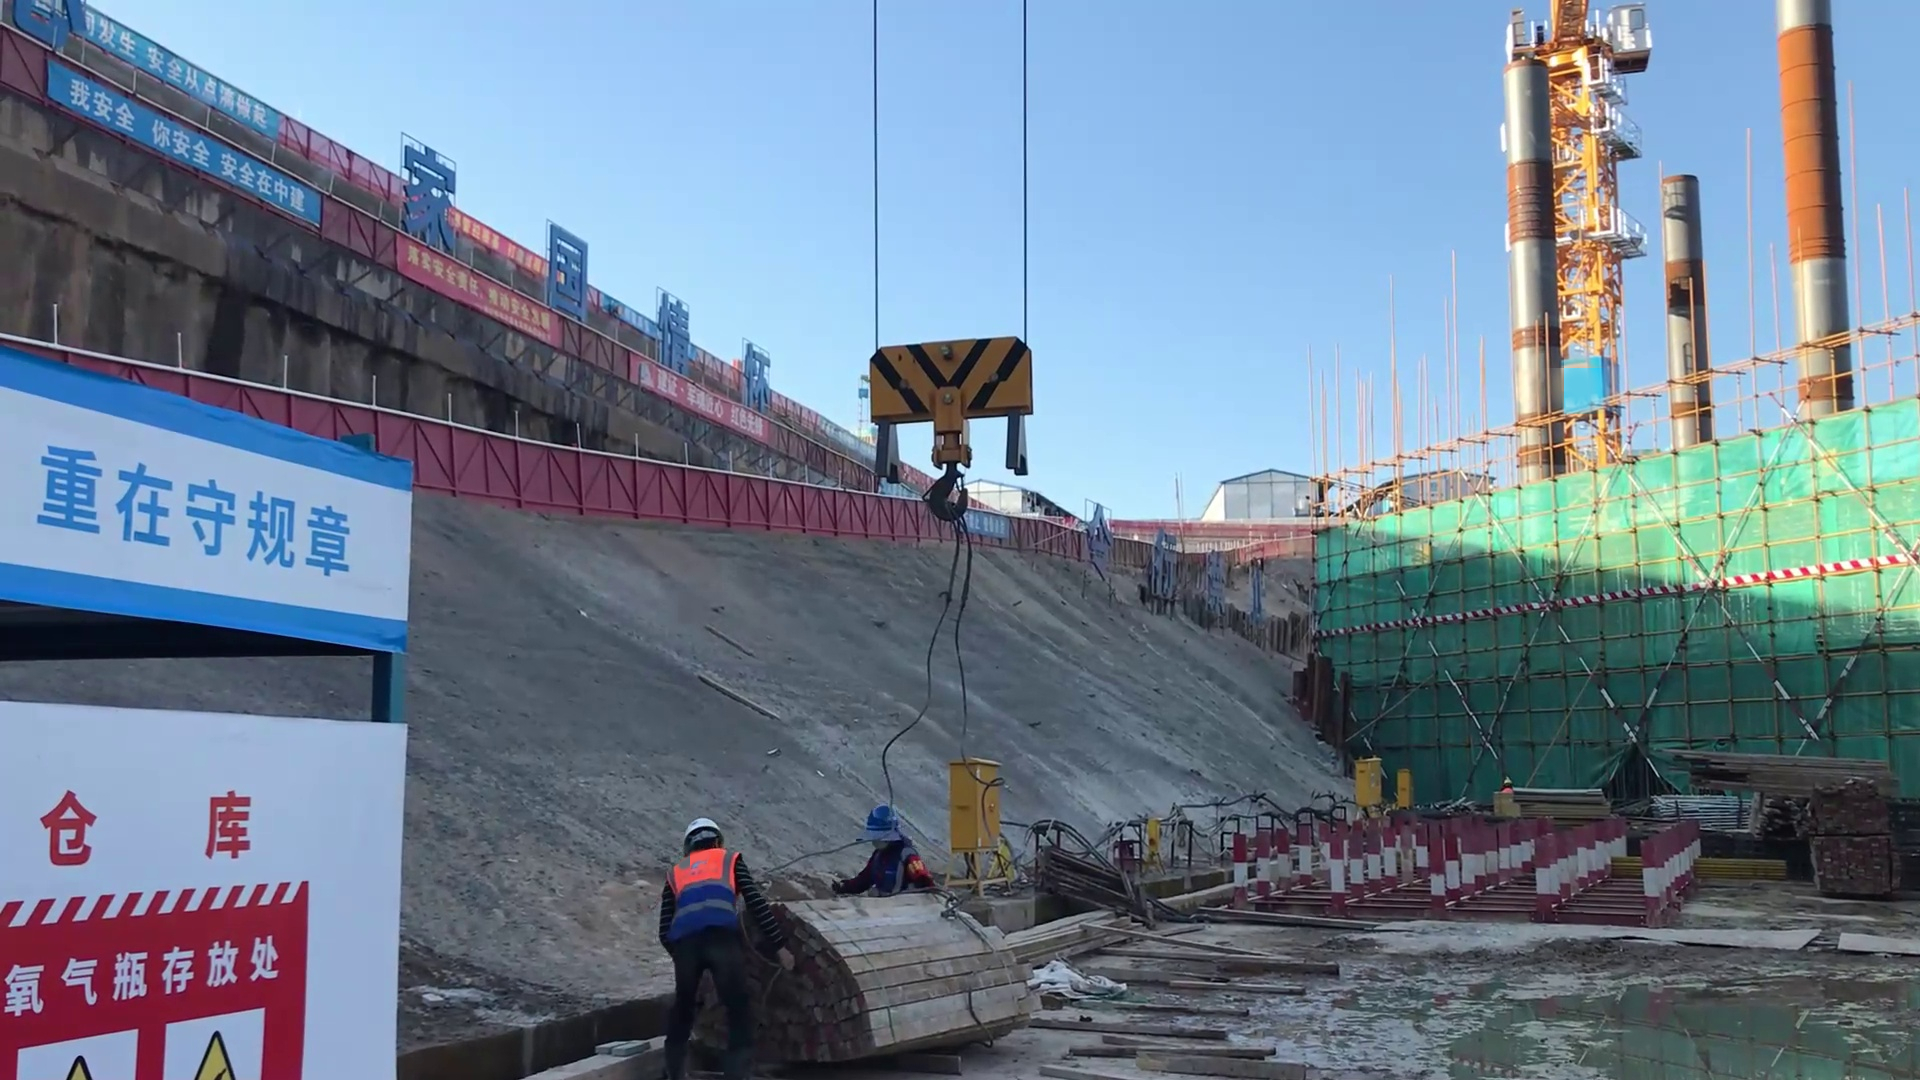ebox: (943, 745, 1014, 864), (1351, 753, 1384, 807), (1395, 763, 1412, 806)
fence: (407, 411, 729, 522), (732, 471, 910, 539)
helmet: (681, 810, 736, 860), (863, 799, 914, 850), (1502, 777, 1511, 785)
hook: (866, 337, 1035, 481)
person: (650, 810, 779, 1080), (838, 802, 933, 898)
slogan: (18, 875, 313, 1080), (32, 447, 362, 621), (33, 74, 322, 244), (48, 1, 299, 159), (407, 224, 558, 361)
vest: (662, 856, 743, 919)
wood: (1097, 878, 1382, 1080), (782, 893, 1037, 1050), (1666, 738, 1899, 800)
